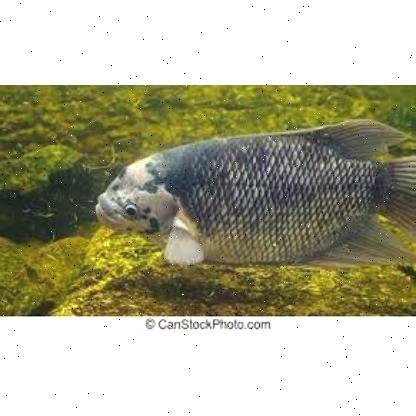gurame: (99, 118, 416, 272)
